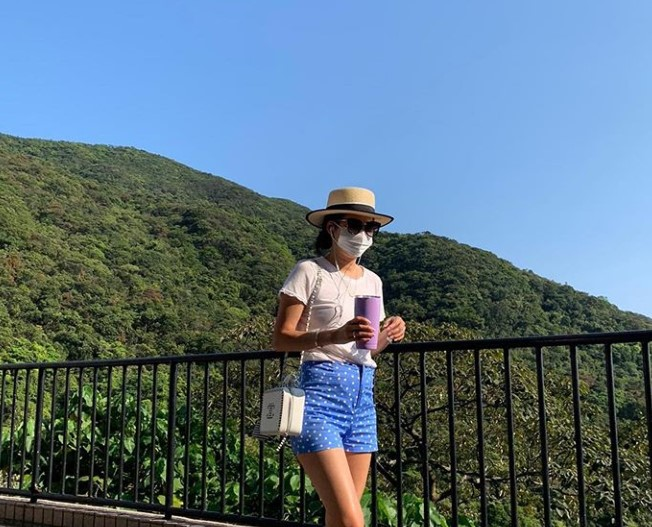face_with_mask: (305, 186, 397, 263)
